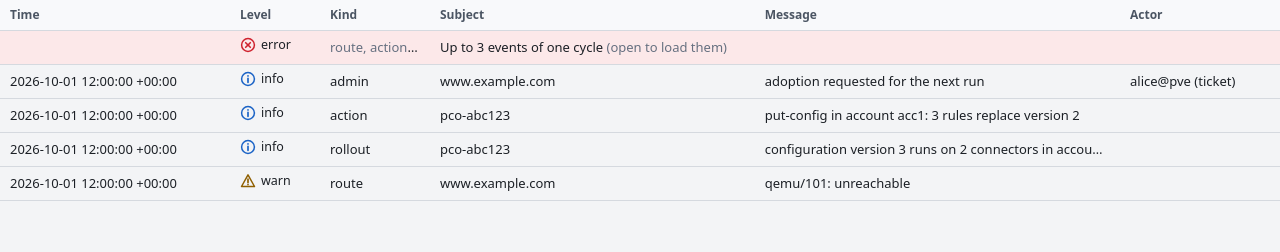
Test: a gap of a reader says up to that many events, and why some are missing
The image size is (1280, 252).
Click the text "Up to 3 events of one cycle".
click(640, 47)  # box [0,30,1279,64]
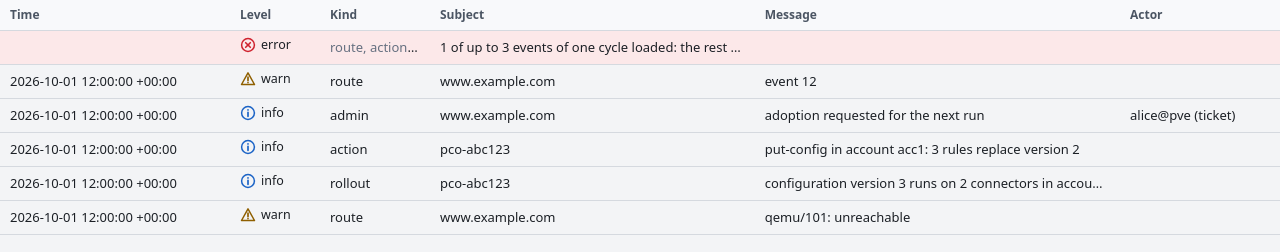
Expected: the text "event 12" is shown, [765,72,817,90]
